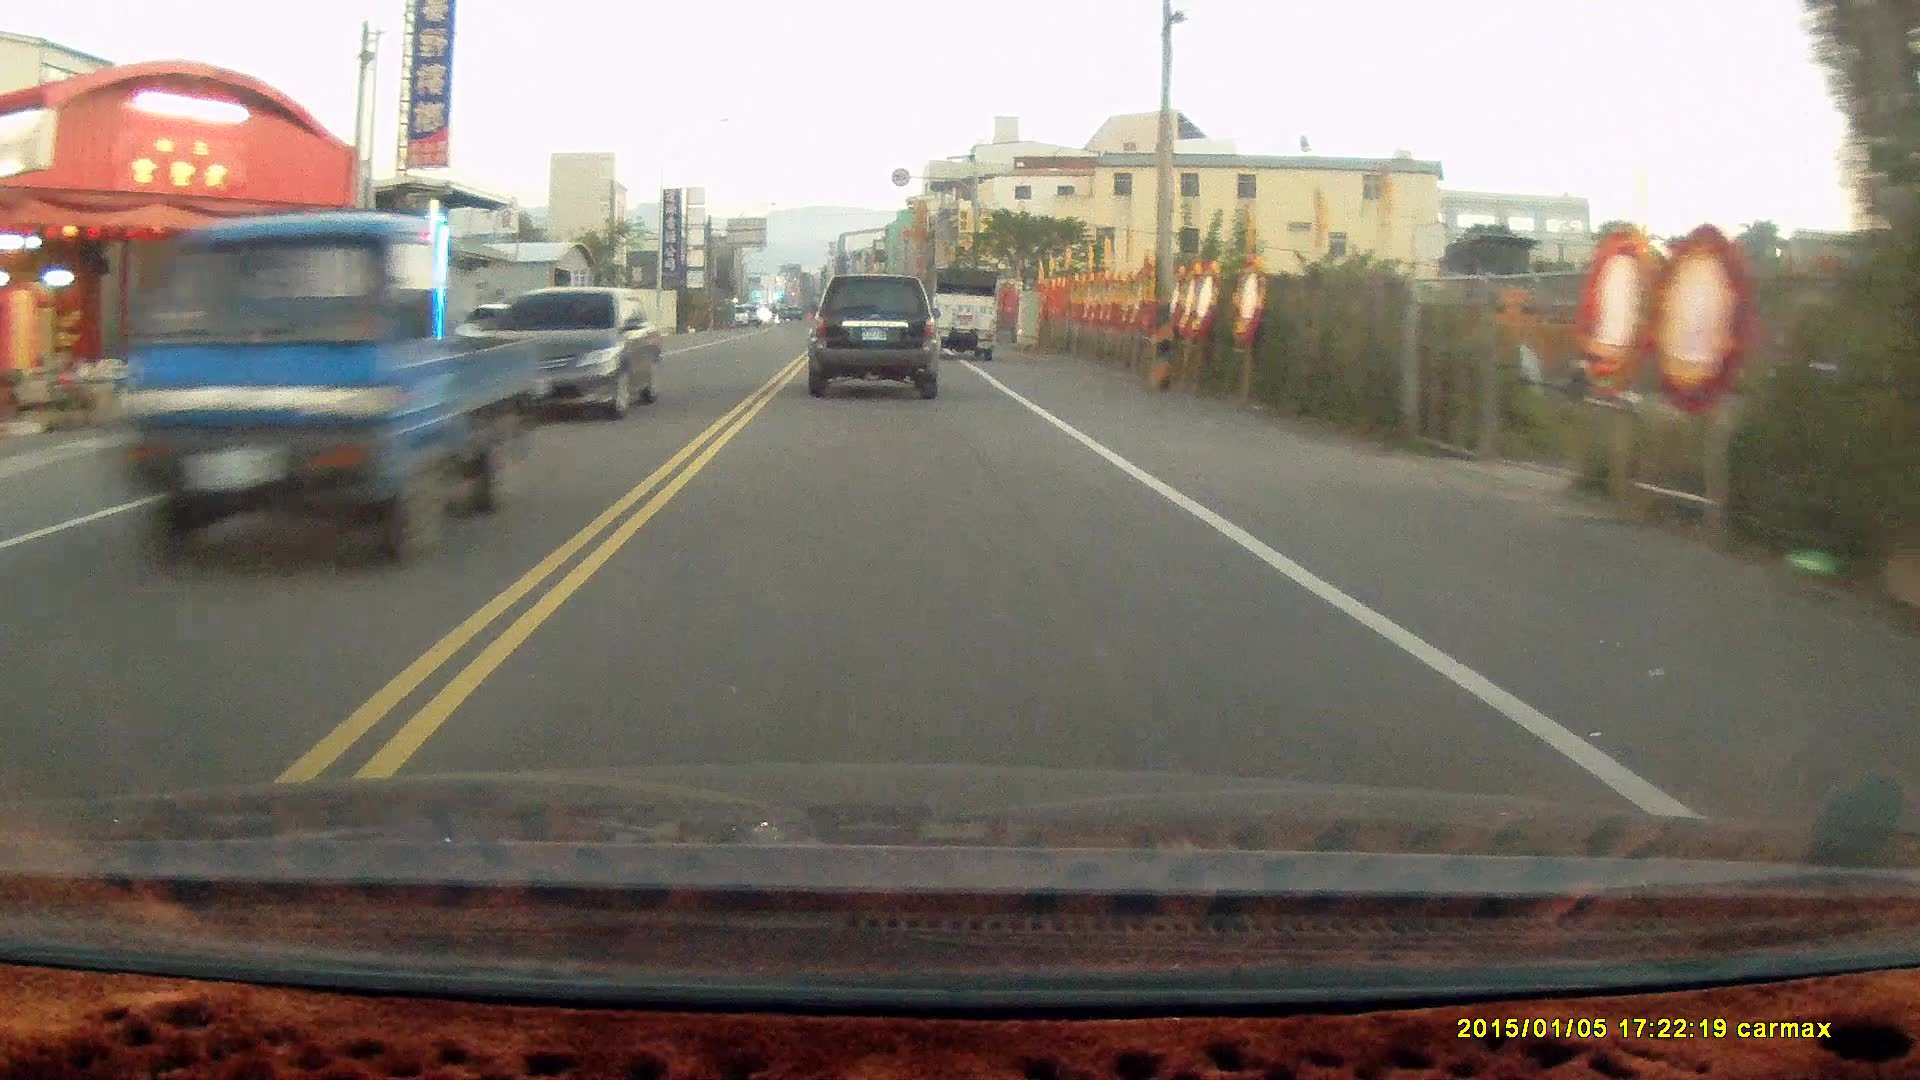vehicle: (116, 208, 545, 566), (489, 284, 661, 423), (804, 270, 940, 398), (928, 262, 1002, 357)
